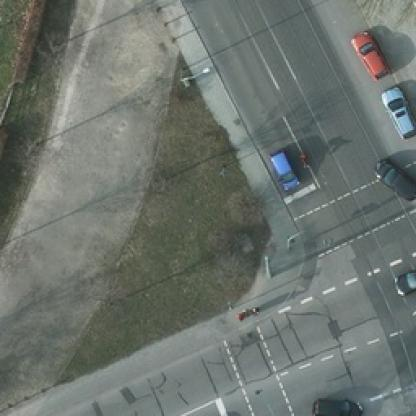car: (370, 152, 414, 202), (350, 26, 388, 76), (380, 83, 413, 140), (266, 146, 300, 192), (310, 394, 361, 414)
